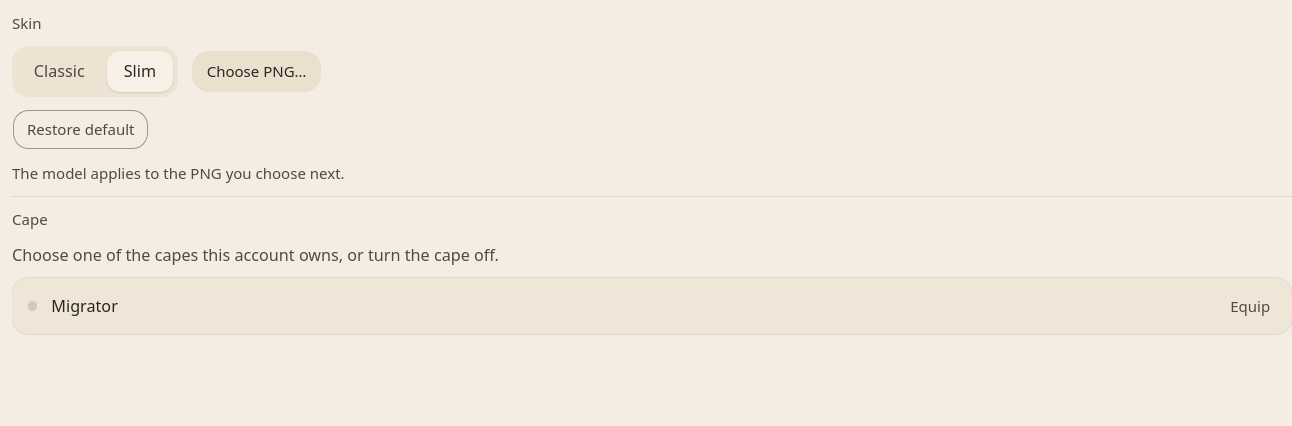
Test: account appearance › keeps the look and says it in words when a change is refused
Step 1. Click the button with aria-label "Equip Migrator" → (1250, 306), box 1215,285 -> 1285,327
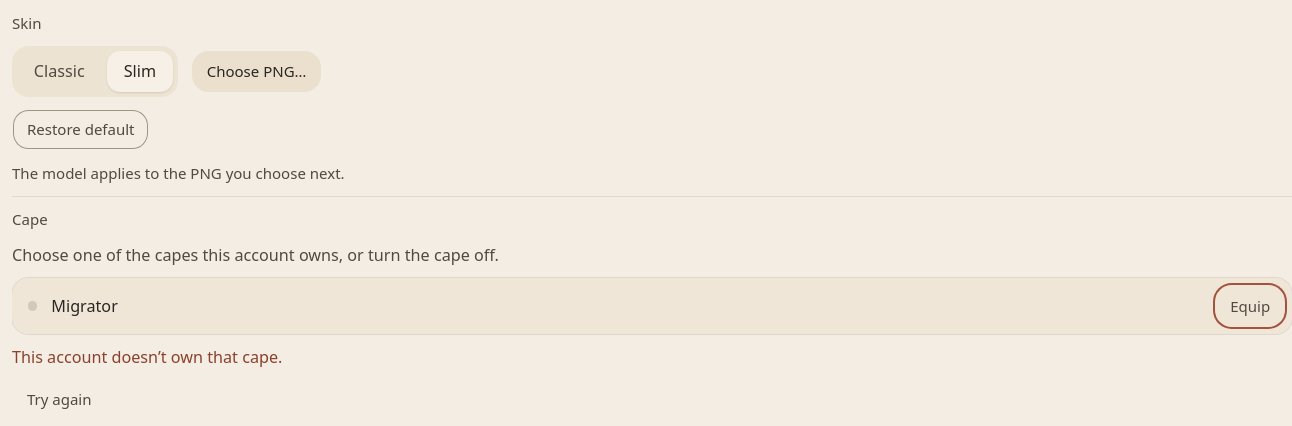
expect the message reads "This account doesn’t own that cape.": met, box 12,346 -> 282,368
